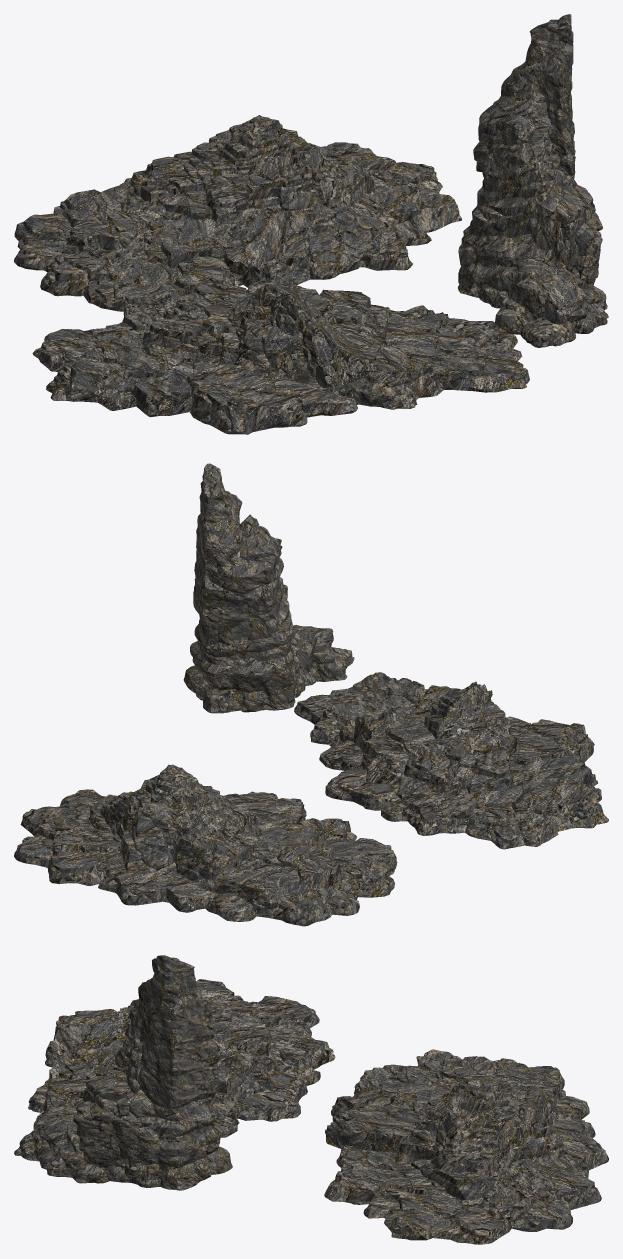
Rendered from Tall Rocks and Rock Bases Asset.fbx.
3 renders of one model, top to bottom at view 1: azimuth 30°, elevation 25°; view 2: azimuth 150°, elevation 25°; view 3: azimuth 270°, elevation 25°, orthographic. The views are drawn at different scales.
Parts seen in each view (by area): view 1: world, world.002; view 2: world, world.002; view 3: world, world.002.
Boxes of the visible parts, left/top/right/bottom form: world: left=14, top=115, right=529, bottom=434; world.002: left=458, top=14, right=608, bottom=347; world: left=14, top=672, right=608, bottom=926; world.002: left=183, top=463, right=354, bottom=713; world: left=14, top=979, right=608, bottom=1244; world.002: left=33, top=955, right=232, bottom=1190.
Size of the model in its own units: 257 by 139 by 274.
Materials: 2 (2 with a texture image).
